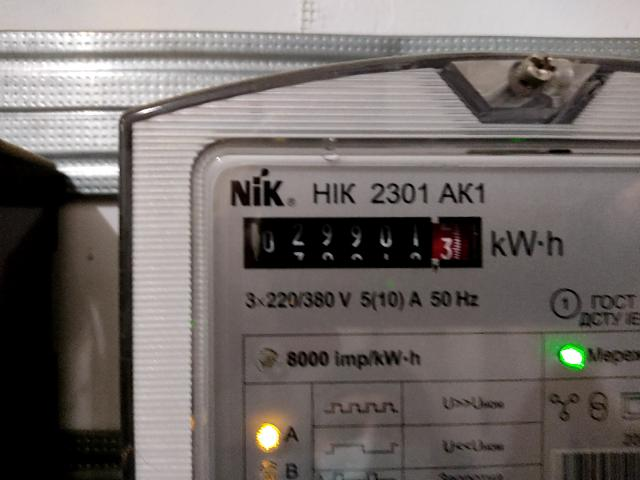0: (259, 227, 277, 254), (378, 221, 394, 250)
1: (409, 220, 422, 248)
2: (289, 221, 307, 248)
3: (438, 235, 455, 261)
9: (319, 221, 335, 248), (350, 222, 363, 249)
screen: (234, 207, 494, 279)
